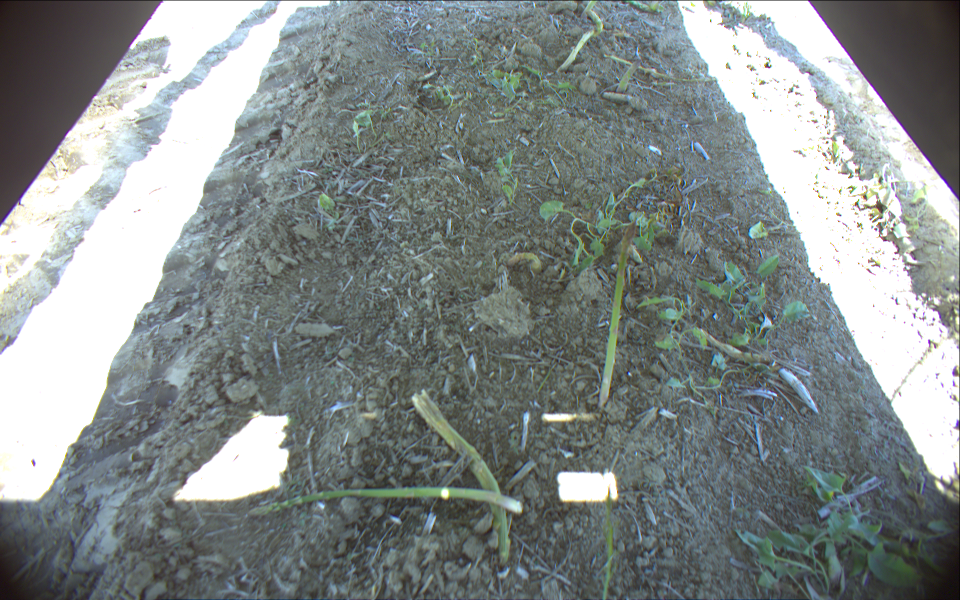aspa: (596, 217, 638, 413), (612, 56, 643, 96)
